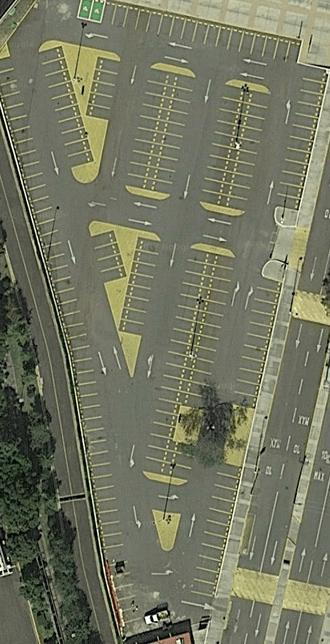parkingspot: (0, 67, 125, 551), (142, 247, 212, 477), (99, 1, 303, 66), (182, 253, 239, 413), (274, 64, 330, 213), (189, 461, 244, 600), (231, 275, 285, 411), (37, 44, 95, 169), (198, 83, 247, 209), (224, 88, 273, 214), (150, 72, 198, 197), (123, 67, 171, 191), (117, 235, 163, 338), (84, 55, 122, 123), (108, 560, 143, 626), (89, 229, 128, 284), (167, 441, 198, 483)
